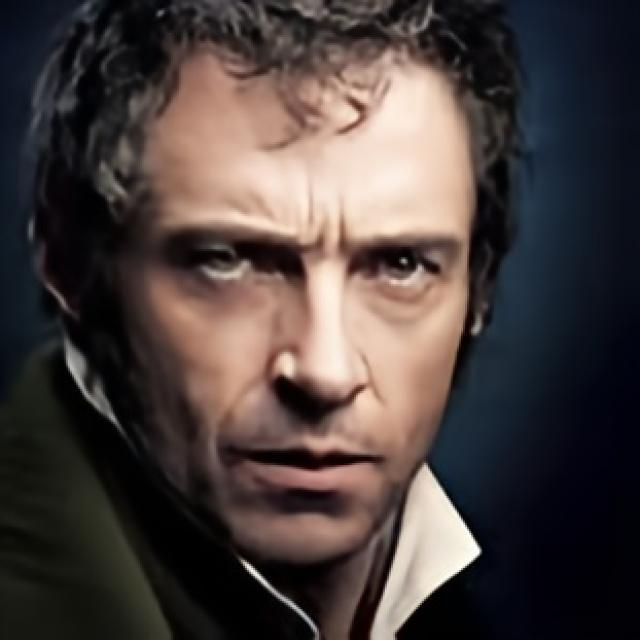anger: (111, 47, 473, 564)
